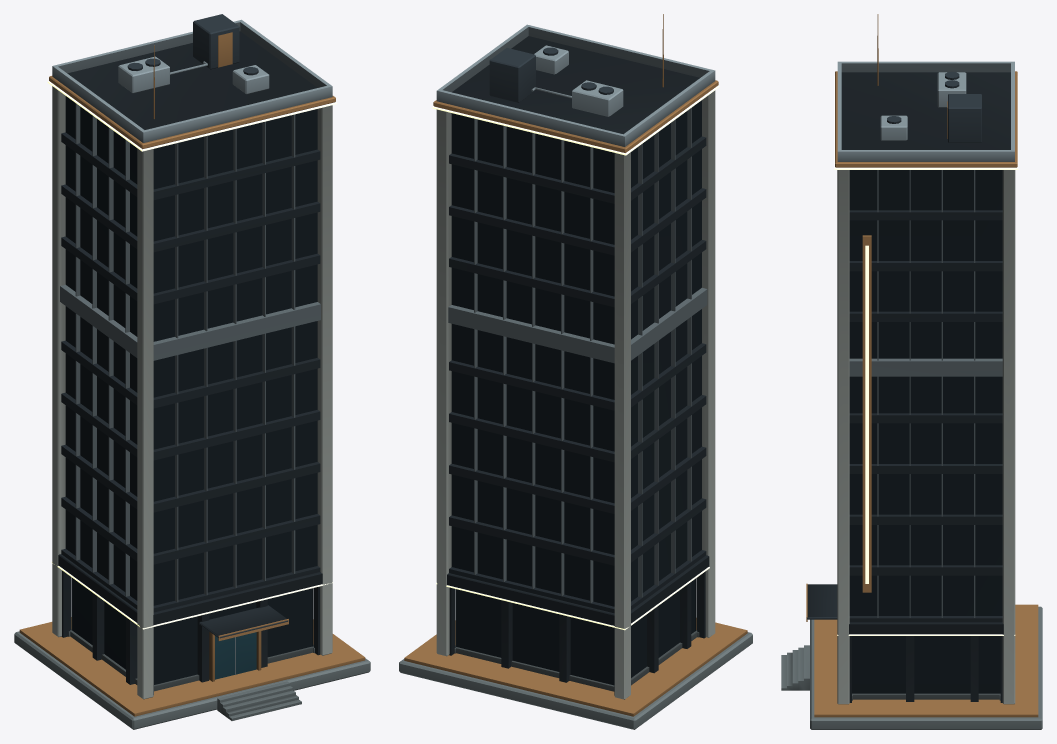
File: data-tower-a.lod1.glb
3 renders of one model, left to right at view 1: azimuth 30°, elevation 25°; view 2: azimuth 150°, elevation 25°; view 3: azimuth 270°, elevation 25°, orthographic. The views are drawn at different scales.
Visible parts, largest first — view 1: structure; view 2: structure; view 3: structure.
Boxes of the visible parts, box(x1,y1,x2,y2) form: structure: box(14, 14, 370, 729); structure: box(399, 14, 752, 729); structure: box(781, 14, 1042, 729).
Size of the model in its own units: 15 by 38.79 by 14.6.
